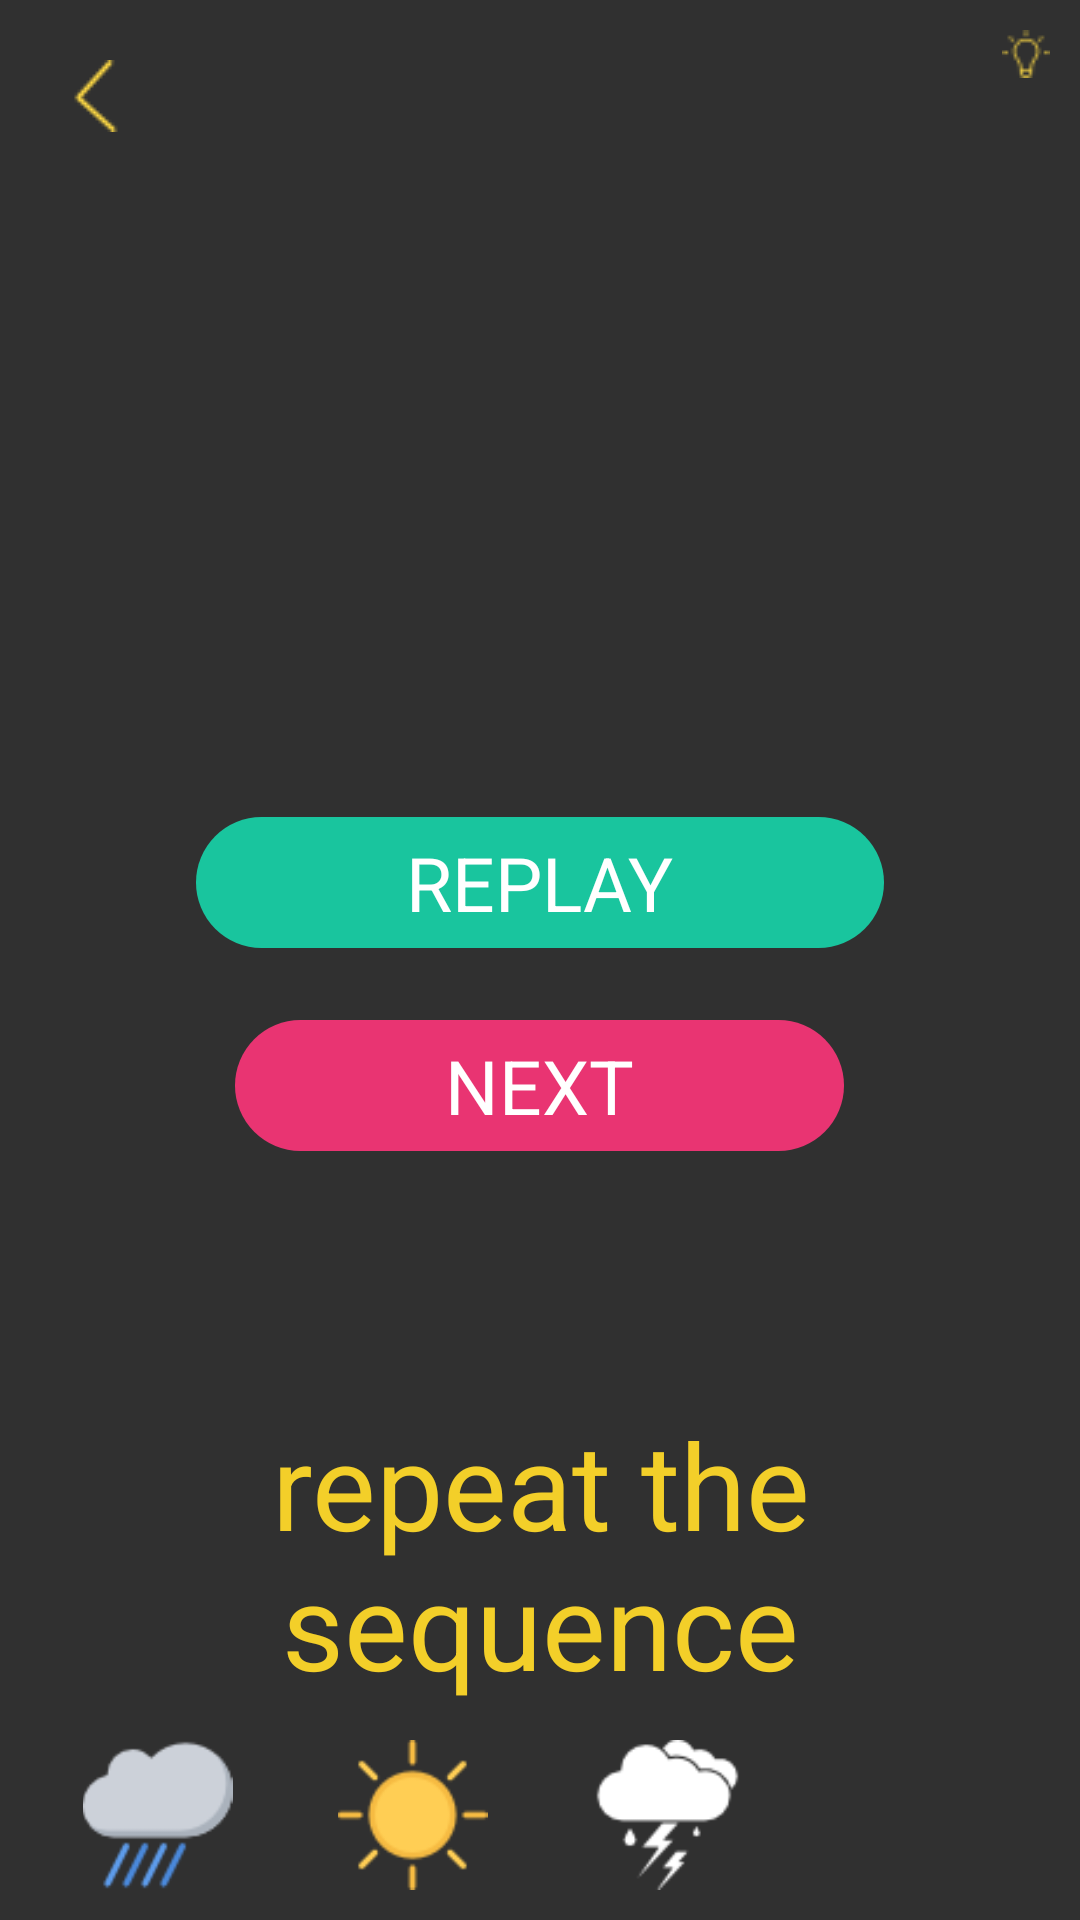

Icon bounding boxes for this 1080w x 1920h phone screenshot, format (x1, y1, x2, y2):
arrow: (74, 60, 117, 132)
lightbulb: (1002, 30, 1050, 78)
rainy: (83, 1742, 233, 1888)
sunny: (338, 1740, 488, 1890)
thunderstorms: (596, 1740, 739, 1890)
